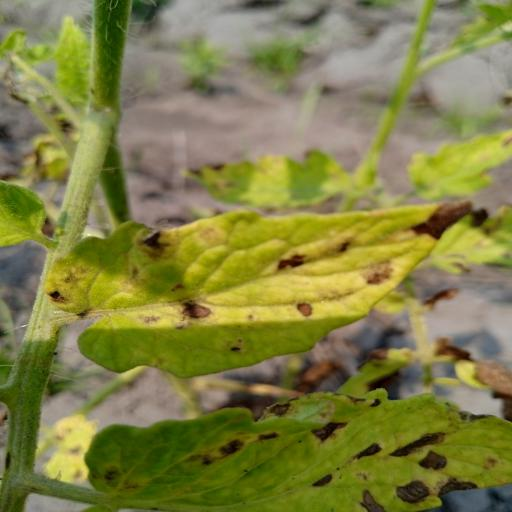Tomato_Brown_Spots: (43, 196, 480, 380), (79, 388, 512, 512)
